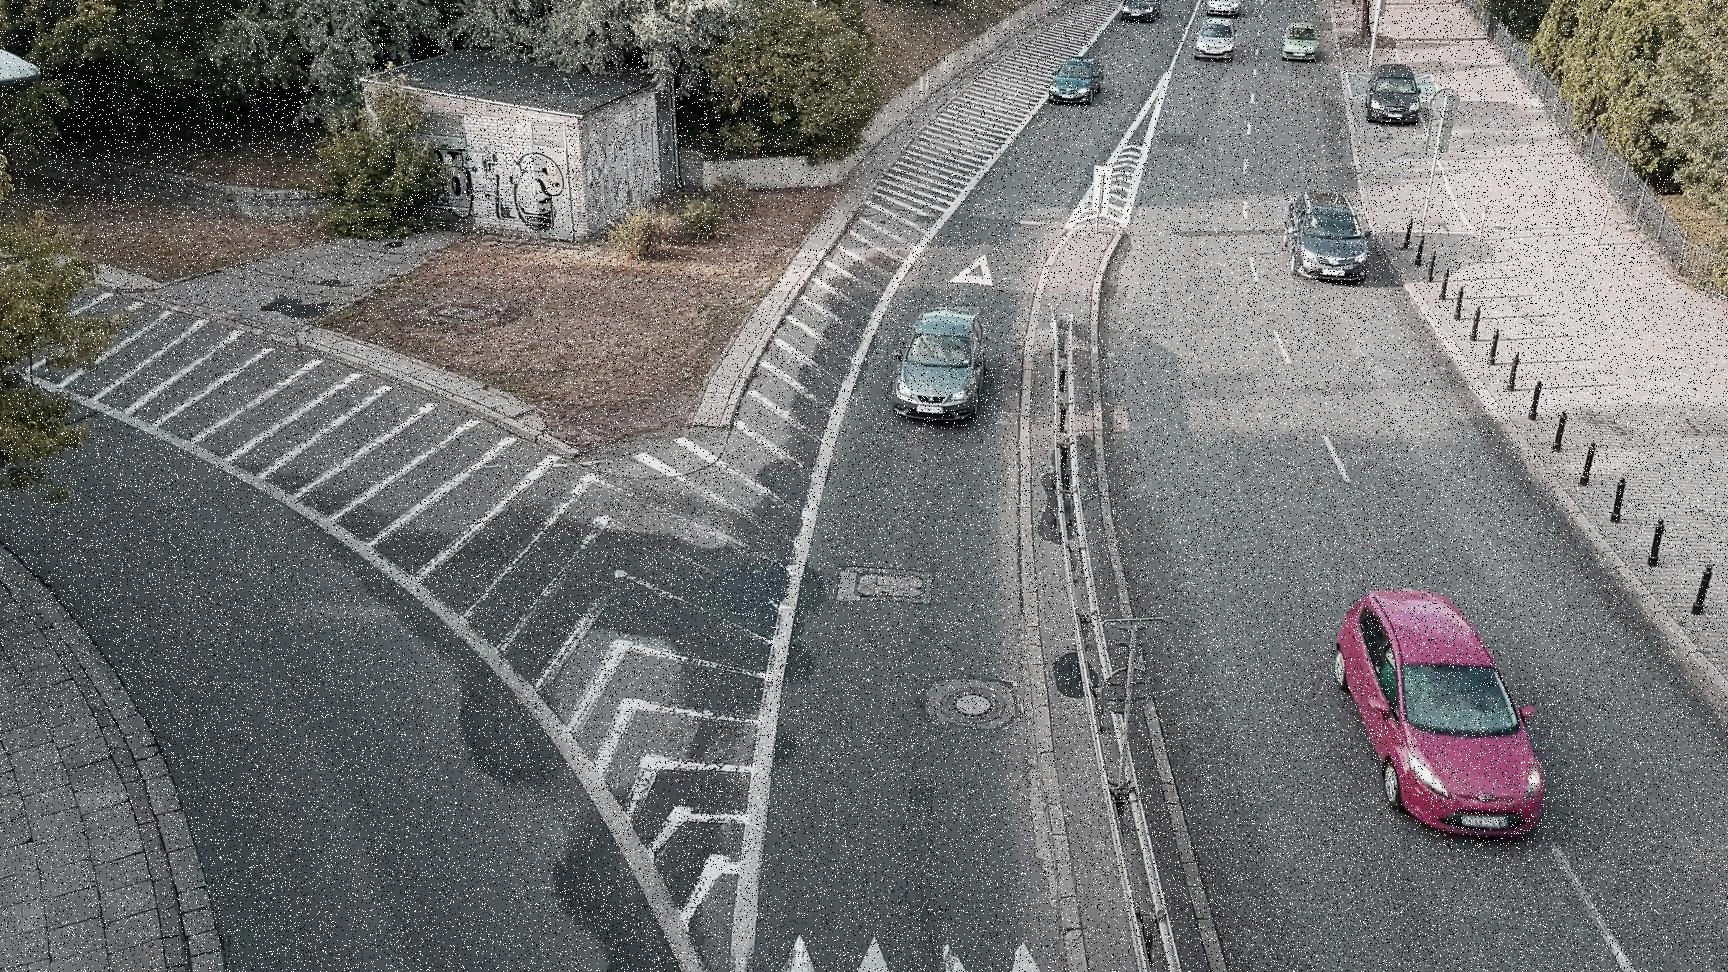car: (881, 287, 995, 437), (1278, 176, 1374, 288), (1357, 59, 1423, 129), (1047, 50, 1110, 115), (1276, 11, 1328, 66), (1189, 11, 1241, 65), (1114, 0, 1168, 25), (1208, 0, 1249, 9)
truck: (1323, 574, 1558, 845)
